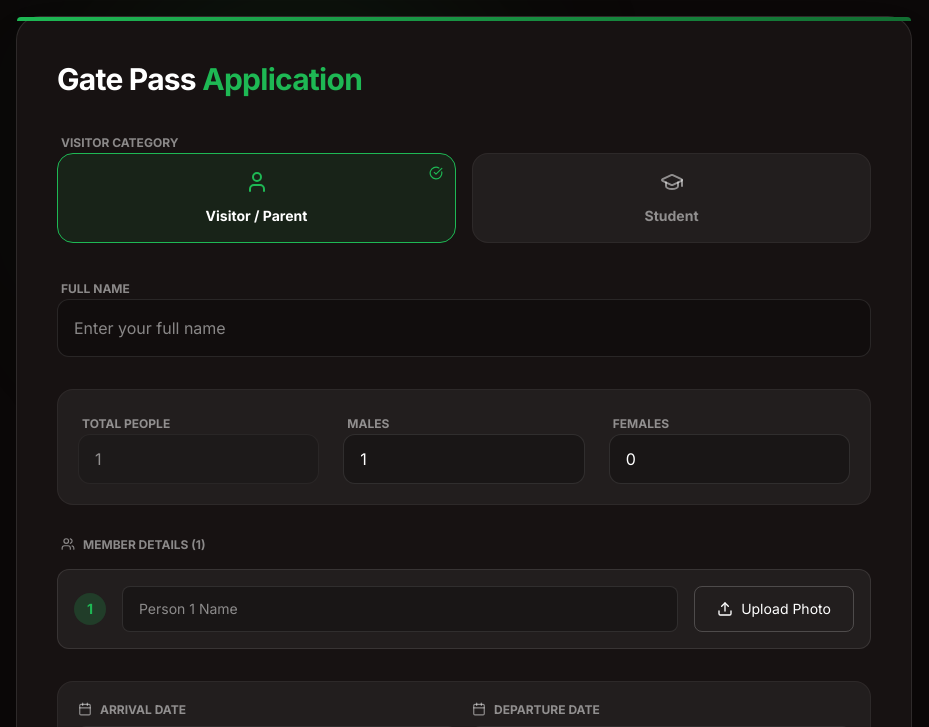
Test case: VisitorForm Component › switches to Student category when clicked
Click the text "Student": (672, 216) [644, 206, 698, 226]
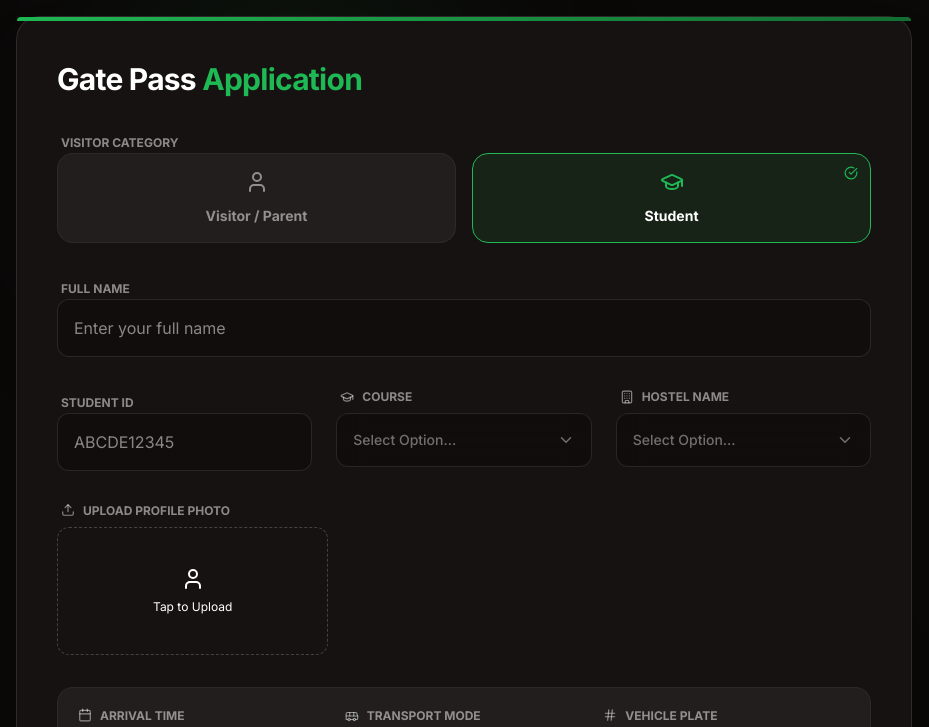
Check: the field with placeholder "ABCDE12345" is shown, box [57, 413, 312, 471]
